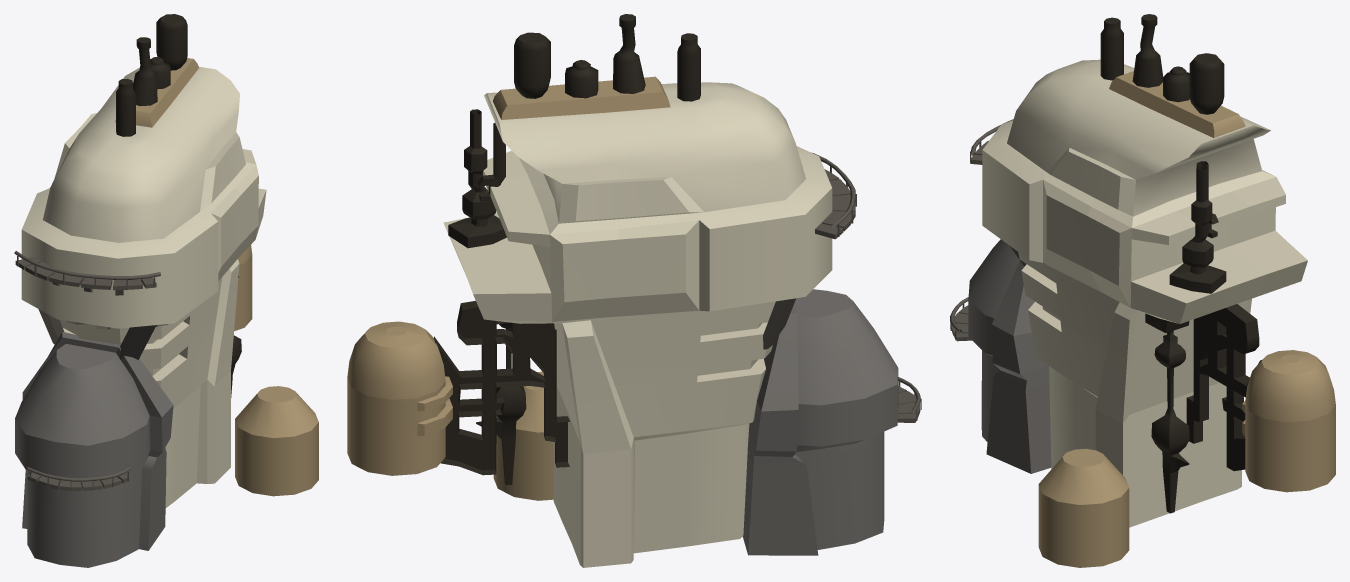
Rendered from Main Building.fbx.
3 renders of one model, left to right at view 1: azimuth 30°, elevation 25°; view 2: azimuth 150°, elevation 25°; view 3: azimuth 270°, elevation 25°, orthographic. The views are drawn at different scales.
Visible parts, largest first — view 1: UpperBuilding1, LowerBuilding, Small_Building_By_Guards, Bridge (×2), Front_Exhaust_Cyl6, Smoke_Stack_Stand, Tower_By_Grid, Front_Exhaust_Cyl1, Railing (×2), Front_Exhaust_Cyl8, Support6, Front_Exhaust_Cyl10 (+1 smaller); view 2: UpperBuilding1, LowerBuilding, Tower_By_Grid, Grid, Back_Smoke_Stacks_R, Smoke_Stack_Stand, Small_Building_By_Guards, Front_Exhaust_Cyl6, Rounded_Support_Beam, Front_Exhaust_Cyl1, Front_Exhaust_Cyl8, Bridge (+2 smaller); view 3: UpperBuilding1, LowerBuilding, Tower_By_Grid, Small_Building_By_Guards, Grid, Rounded_Support_Beam, Back_Smoke_Stacks_R, Smoke_Stack_Stand, Front_Exhaust_Cyl6, Front_Exhaust_Cyl1, Front_Exhaust_Cyl8, Front_Exhaust_Cyl10.
Boxes of the visible parts, box(x1,y1,x2,y2) form: UpperBuilding1: box(21, 67, 266, 507); LowerBuilding: box(15, 332, 173, 567); Small_Building_By_Guards: box(235, 386, 318, 496); Bridge (×2): box(15, 257, 156, 490); Front_Exhaust_Cyl6: box(156, 14, 187, 70); Smoke_Stack_Stand: box(115, 58, 199, 127); Tower_By_Grid: box(234, 245, 252, 331); Front_Exhaust_Cyl1: box(133, 37, 157, 106); Railing (×2): box(14, 251, 160, 481); Front_Exhaust_Cyl8: box(116, 78, 135, 136); Support6: box(119, 325, 156, 359); Front_Exhaust_Cyl10: box(150, 57, 170, 89); UpperBuilding1: box(443, 82, 832, 567); LowerBuilding: box(743, 289, 898, 555); Tower_By_Grid: box(347, 321, 452, 475); Grid: box(434, 300, 569, 475); Back_Smoke_Stacks_R: box(448, 109, 506, 248); Smoke_Stack_Stand: box(493, 76, 670, 119); Small_Building_By_Guards: box(493, 371, 553, 500); Front_Exhaust_Cyl6: box(514, 32, 550, 98); Rounded_Support_Beam: box(476, 322, 526, 485); Front_Exhaust_Cyl1: box(613, 14, 645, 93); Front_Exhaust_Cyl8: box(677, 33, 700, 101); Bridge: box(815, 169, 855, 239); UpperBuilding1: box(982, 59, 1307, 527); LowerBuilding: box(968, 239, 1051, 473); Tower_By_Grid: box(1242, 350, 1335, 492); Small_Building_By_Guards: box(1038, 448, 1129, 567); Grid: box(1186, 304, 1261, 470); Rounded_Support_Beam: box(1145, 313, 1189, 513); Back_Smoke_Stacks_R: box(1169, 161, 1226, 293); Smoke_Stack_Stand: box(1109, 71, 1245, 137); Front_Exhaust_Cyl6: box(1189, 53, 1224, 114); Front_Exhaust_Cyl1: box(1132, 14, 1163, 87); Front_Exhaust_Cyl8: box(1100, 17, 1123, 80); Front_Exhaust_Cyl10: box(1163, 66, 1189, 102).
Size of the model in its own units: 27.68 by 33.42 by 24.49.
